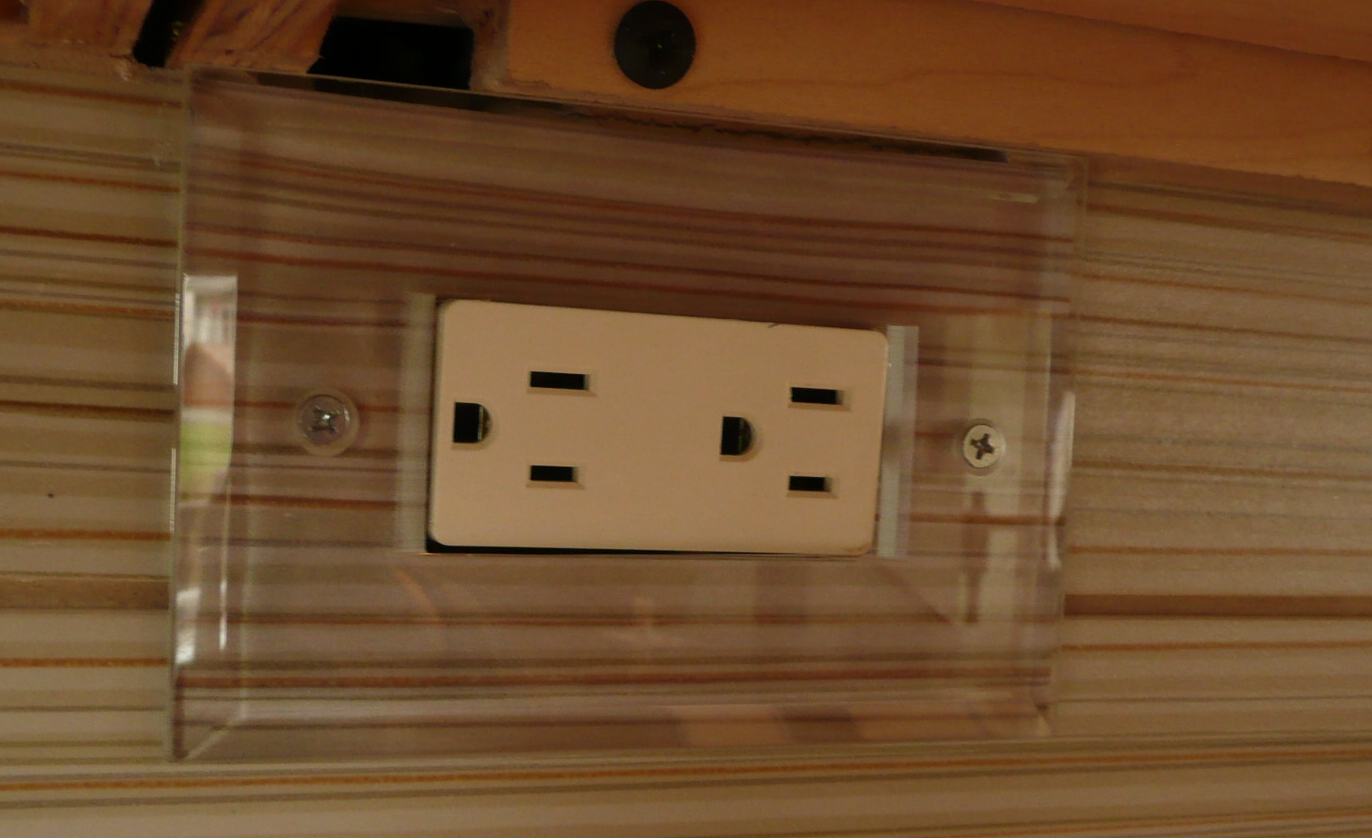outlet: (445, 336, 605, 510), (716, 360, 858, 516)
